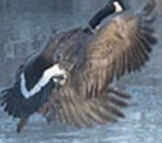goose: (1, 1, 162, 142)
